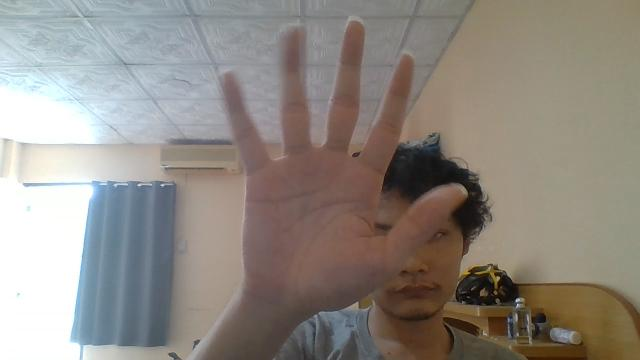Stop: (217, 15, 468, 317)
